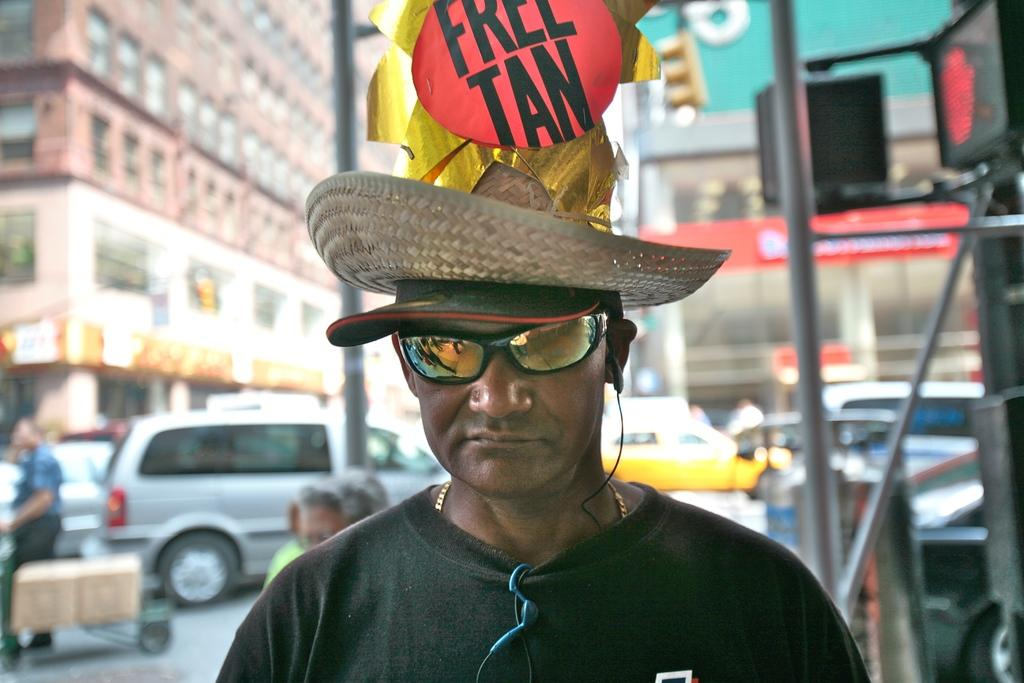Hat: (324, 284, 604, 346)
